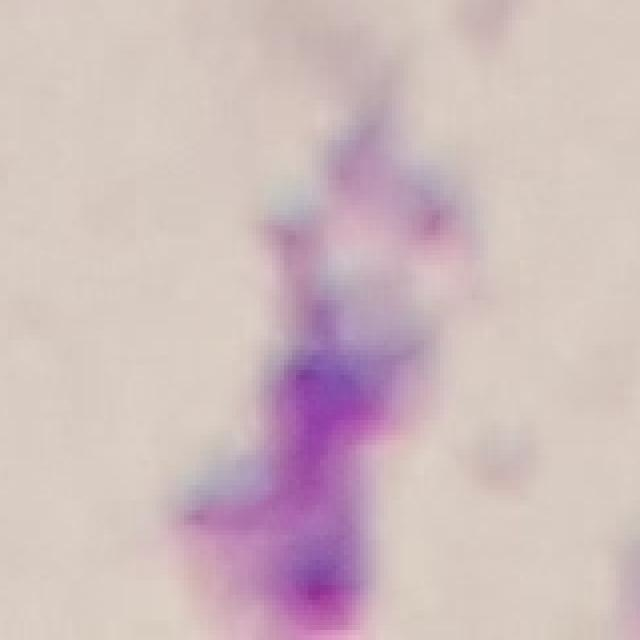non-sperm: (186, 116, 467, 638)
